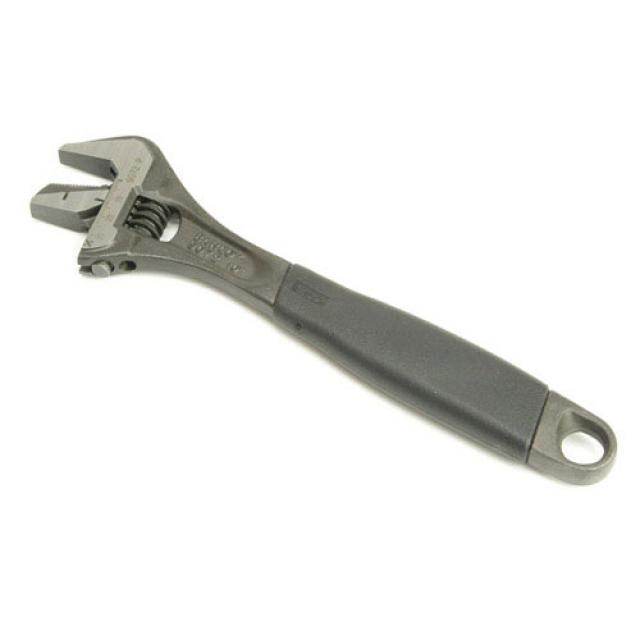wrench: (0, 99, 452, 442)
